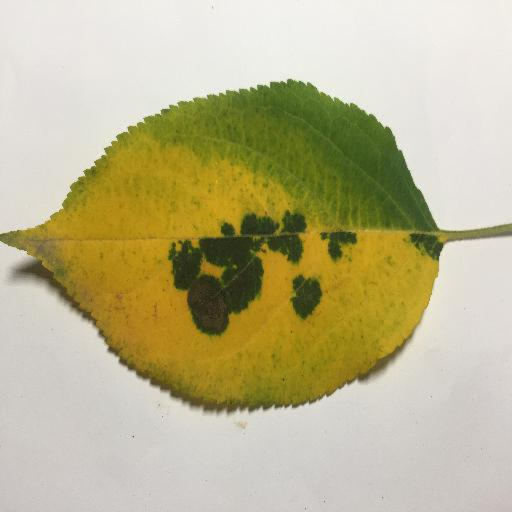Brown_Spot: (178, 285, 233, 341)
